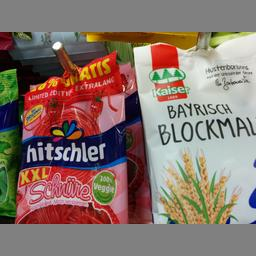candy: (132, 36, 254, 222), (17, 51, 128, 224)
